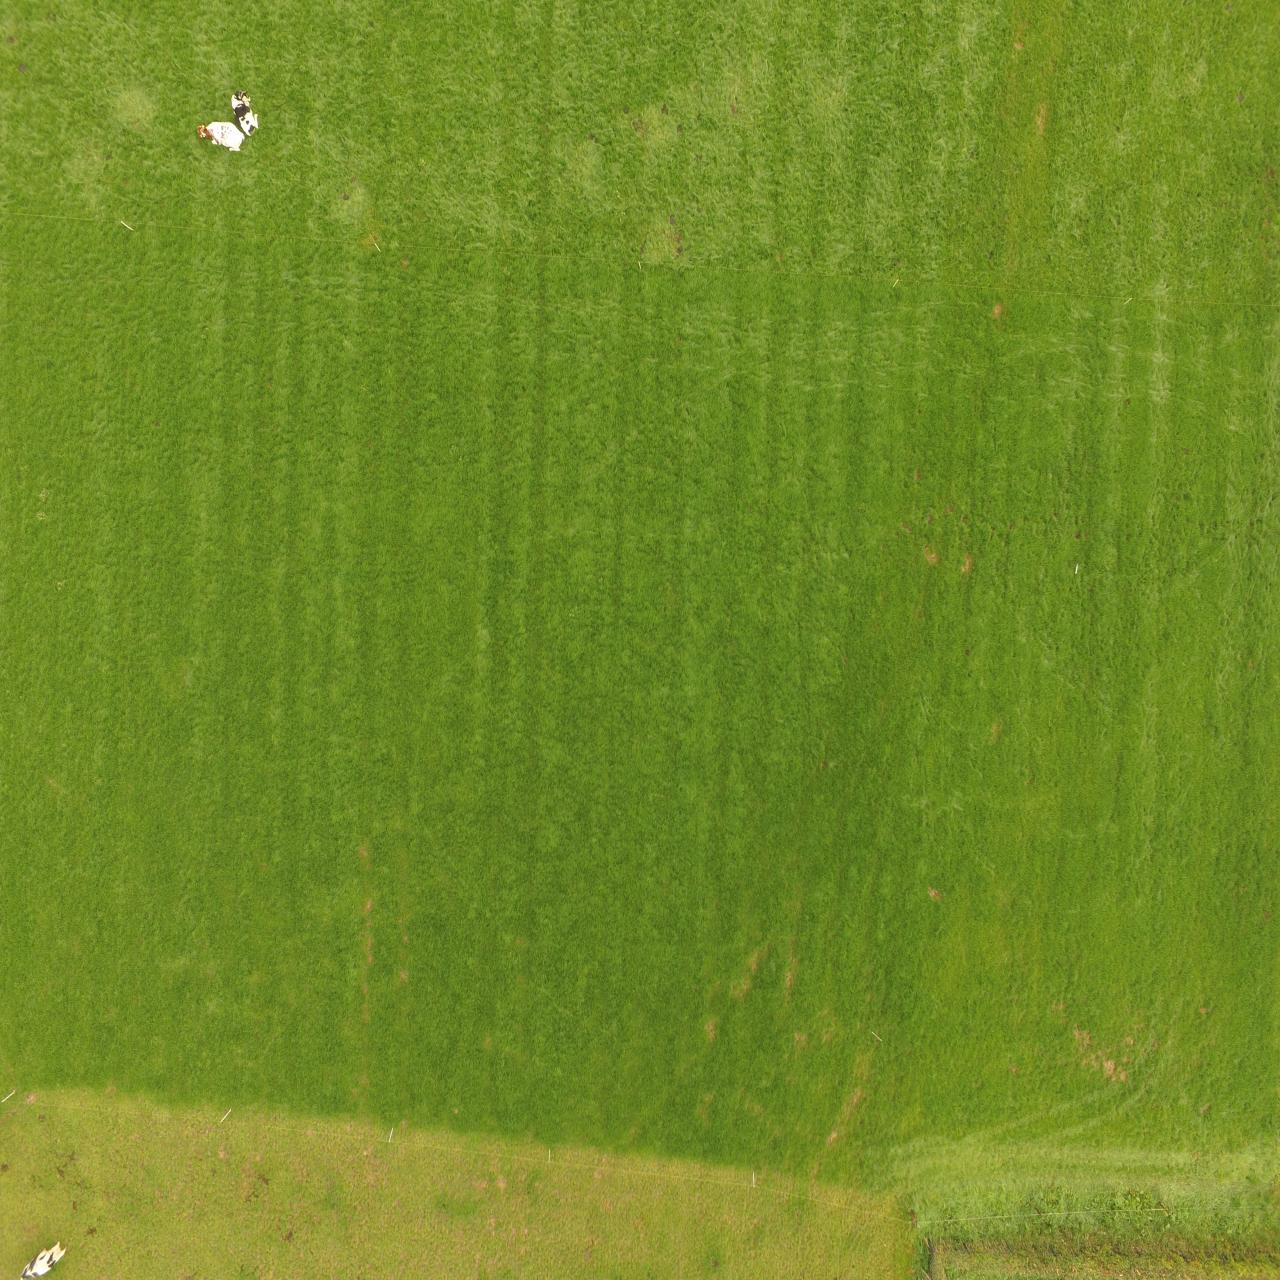cow: (195, 84, 261, 157), (22, 1235, 66, 1280)
